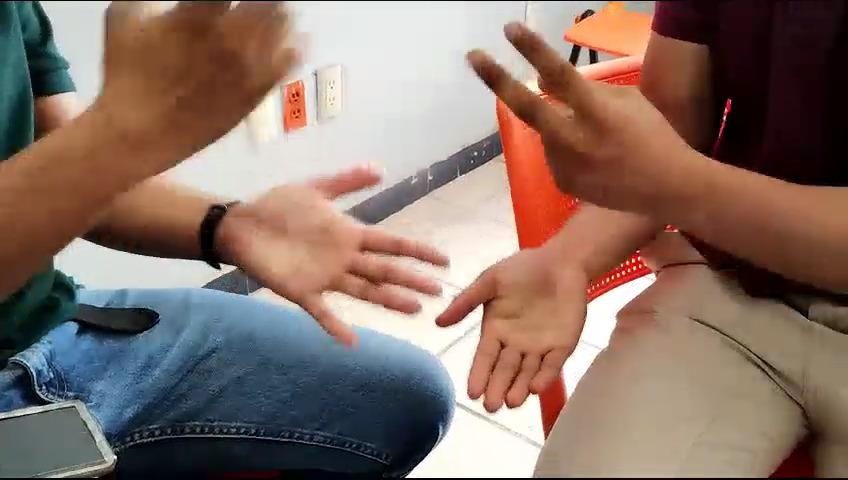Scissor: (441, 7, 702, 219)
